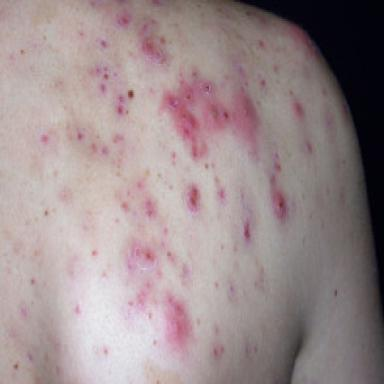acne: (161, 66, 260, 158), (166, 293, 192, 350), (270, 175, 288, 221), (141, 36, 169, 65), (290, 24, 316, 54), (127, 243, 155, 270), (136, 281, 153, 310), (187, 186, 199, 213), (293, 100, 305, 121), (94, 66, 110, 81), (145, 198, 156, 219), (117, 11, 131, 27), (212, 345, 225, 359), (116, 95, 125, 115), (243, 221, 251, 241), (182, 263, 191, 279), (274, 153, 281, 171), (113, 133, 124, 144), (218, 189, 226, 204), (140, 23, 149, 35), (305, 140, 312, 153), (168, 251, 175, 263), (41, 134, 49, 144), (77, 130, 85, 140), (214, 323, 220, 336), (75, 304, 82, 315), (100, 82, 107, 93), (136, 181, 144, 190), (91, 143, 97, 153), (121, 202, 128, 210), (101, 40, 108, 48), (172, 152, 176, 166), (102, 146, 108, 155), (31, 277, 37, 285), (91, 249, 97, 256), (259, 41, 264, 49), (150, 18, 156, 24), (260, 79, 265, 86), (104, 348, 109, 355), (274, 66, 279, 73), (163, 227, 168, 234), (101, 83, 105, 91), (127, 190, 131, 197), (215, 280, 218, 288), (197, 318, 201, 324), (115, 218, 119, 224)
